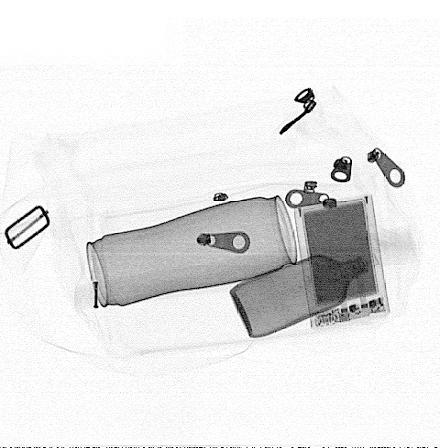Powerbank: (293, 193, 390, 329)
